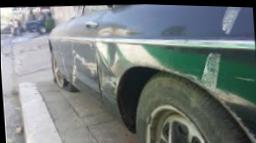Door: (48, 33, 101, 105)
Fender: (150, 3, 256, 74), (96, 10, 153, 127), (174, 70, 256, 142)
